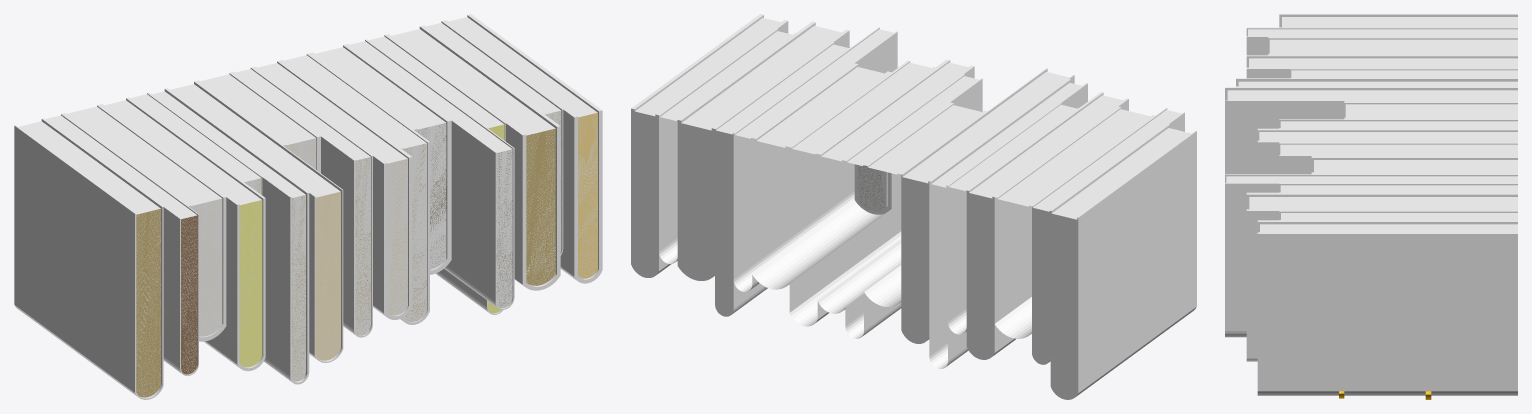
3 views of the same model, side by side, from view 1: azimuth 30°, elevation 25°; view 2: azimuth 150°, elevation 25°; view 3: azimuth 270°, elevation 25° (orthographic). The views are drawn at different scales.
Visible parts, largest first — view 1: books; view 2: books; view 3: books.
Boxes of the visible parts, x1=… form: books: x1=14, y1=14, x2=602, y2=399; books: x1=631, y1=14, x2=1196, y2=399; books: x1=1225, y1=14, x2=1517, y2=399.
Size of the model in its own units: 12.08 by 4.75 by 6.75.
